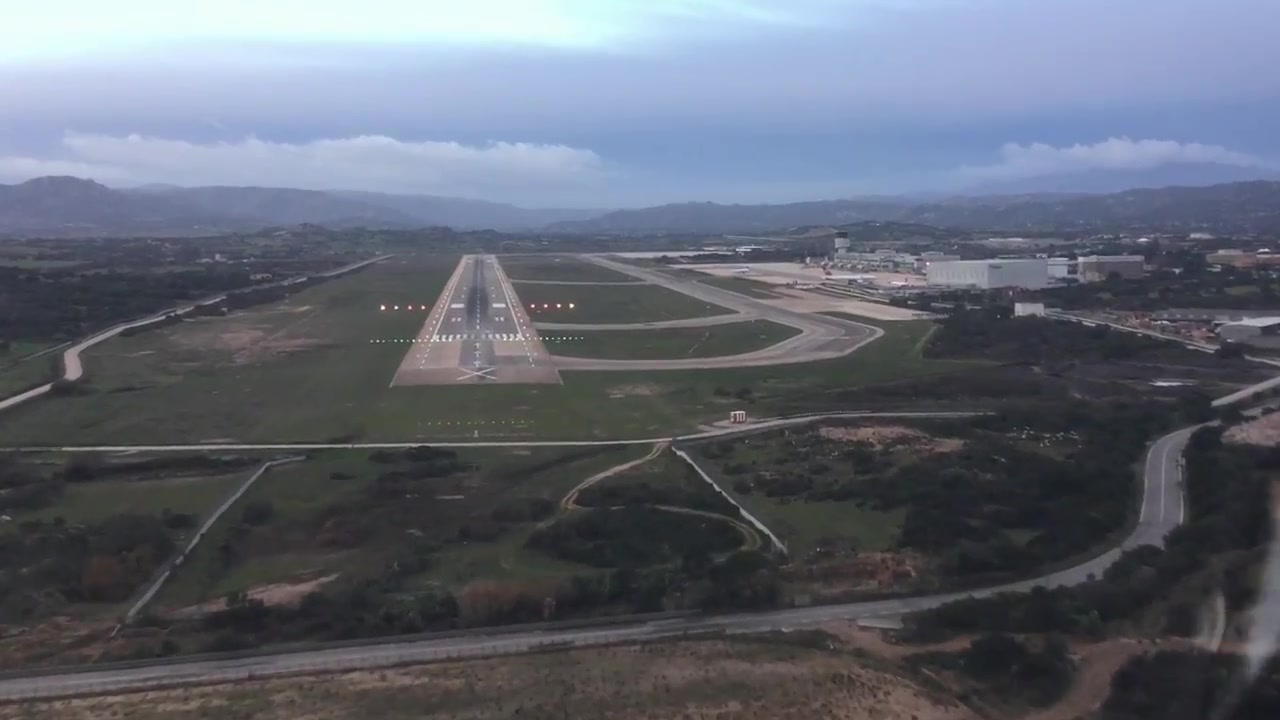entrance: (431, 332, 519, 342)
runway: (391, 255, 565, 387)
